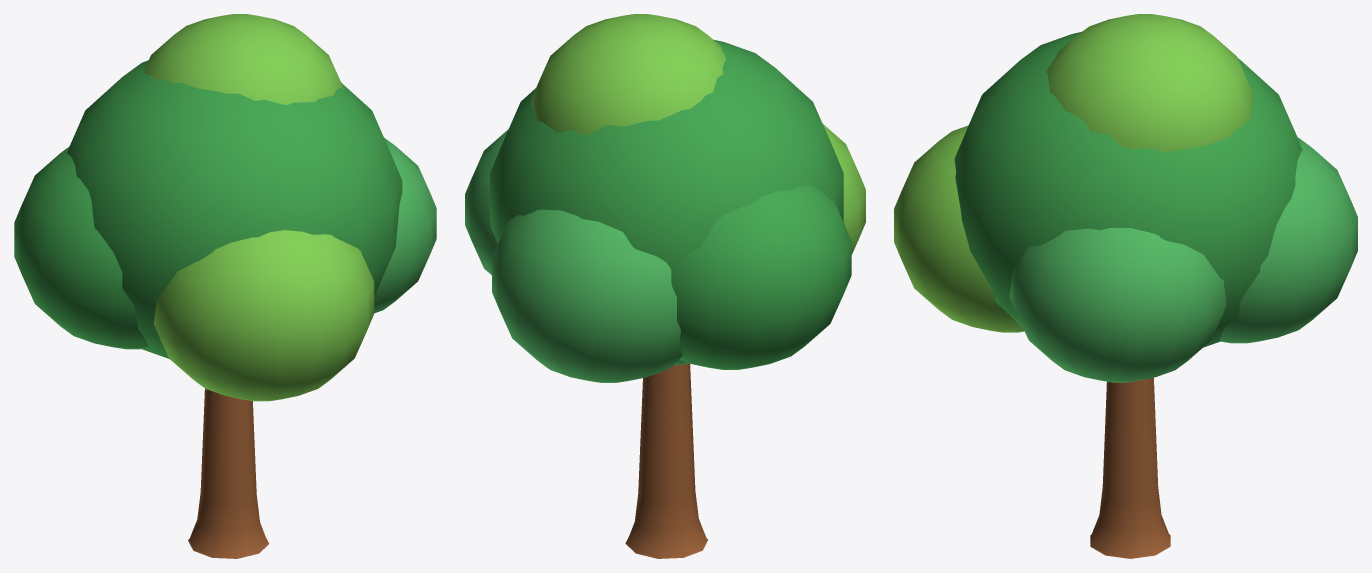
Rendered from arvore_redonda_grande.glb.
The picture shows the model from 3 angles, left to right: view 1: azimuth 30°, elevation 25°; view 2: azimuth 150°, elevation 25°; view 3: azimuth 270°, elevation 25°; orthographic projection. The views are drawn at different scales.
Visible parts, largest first — view 1: arvore_redonda_grande; view 2: arvore_redonda_grande; view 3: arvore_redonda_grande.
Part boxes in pixels (left/top/right/bottom): arvore_redonda_grande: left=14, top=14, right=436, bottom=558; arvore_redonda_grande: left=465, top=14, right=865, bottom=558; arvore_redonda_grande: left=894, top=14, right=1357, bottom=558.
Size of the model in its own units: 6.62 by 8.75 by 7.
Materials: 1 (1 with a texture image).
